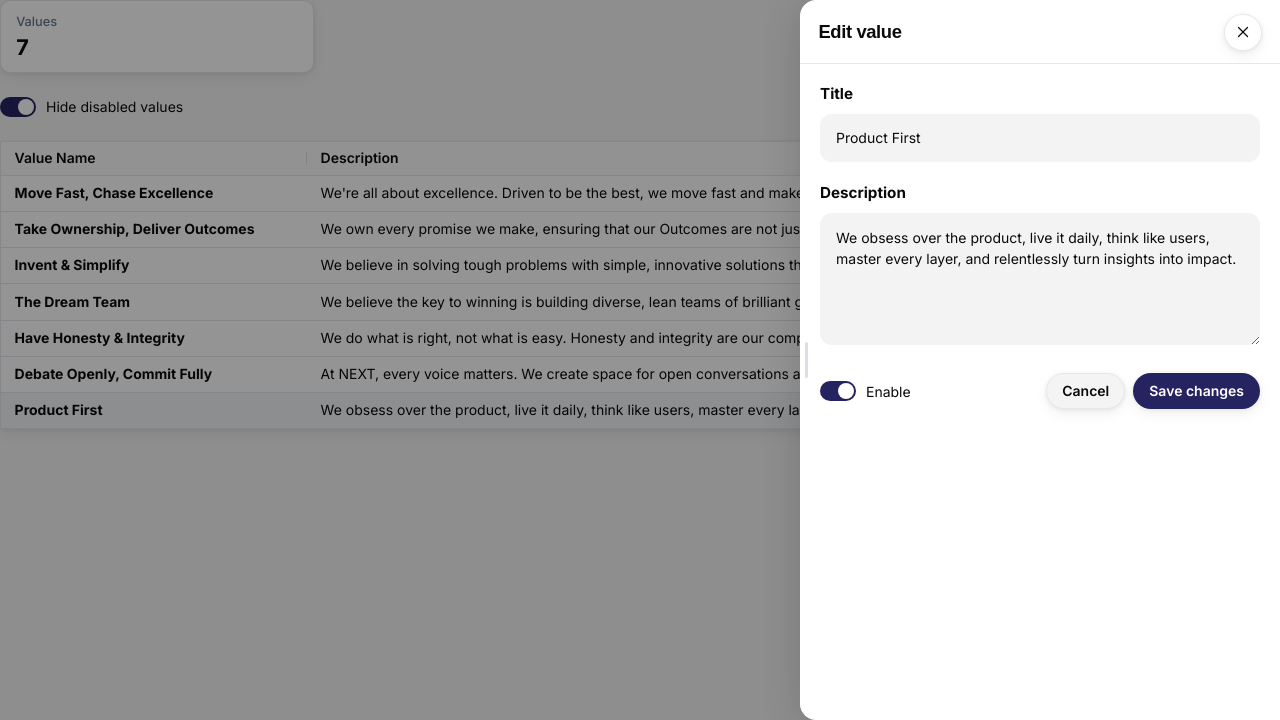
Test: ValuesLibrary › edits a value in the right panel
Expected: the dialog "Edit value" is shown, 800,0 -> 1279,719
Expected: the field labelled "Title" holds "Product First", 820,114 -> 1260,162
Replace the text in the text box labelled "Description" with "Updated product obsession." at (1040, 279), box 820,213 -> 1260,345
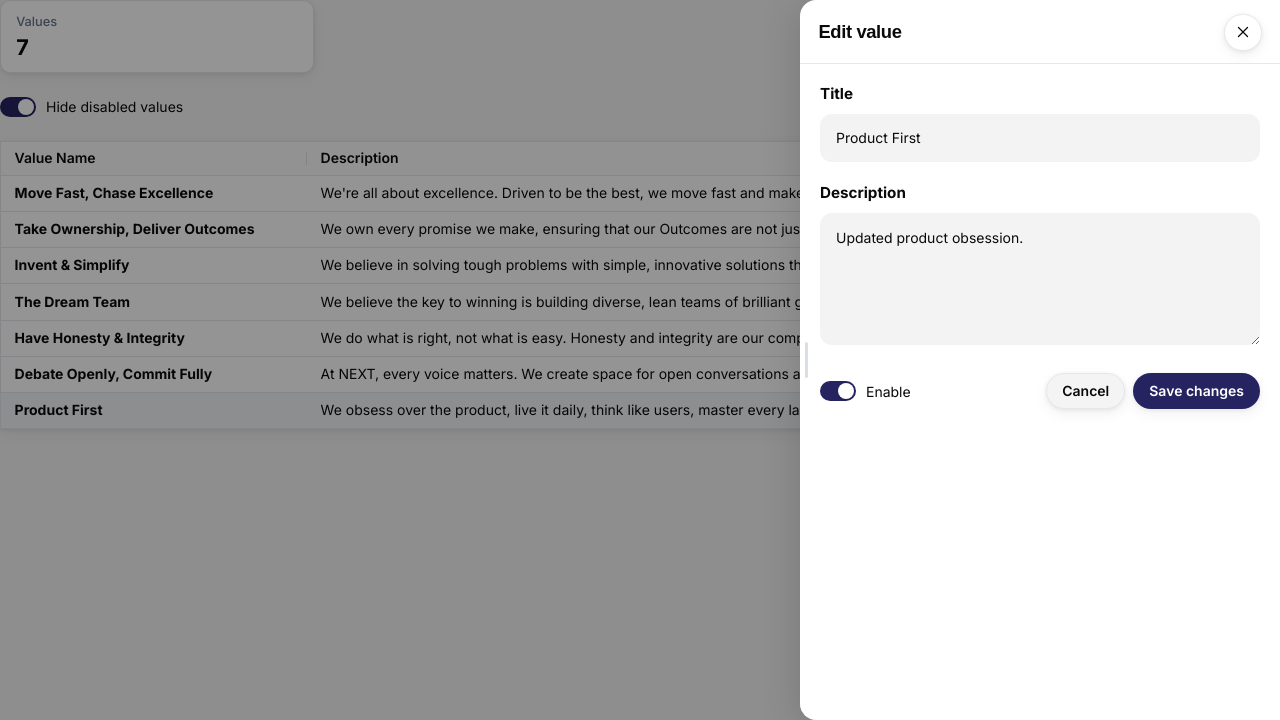
Click the button "Save changes" at (1197, 391), box 1133,373 -> 1260,409
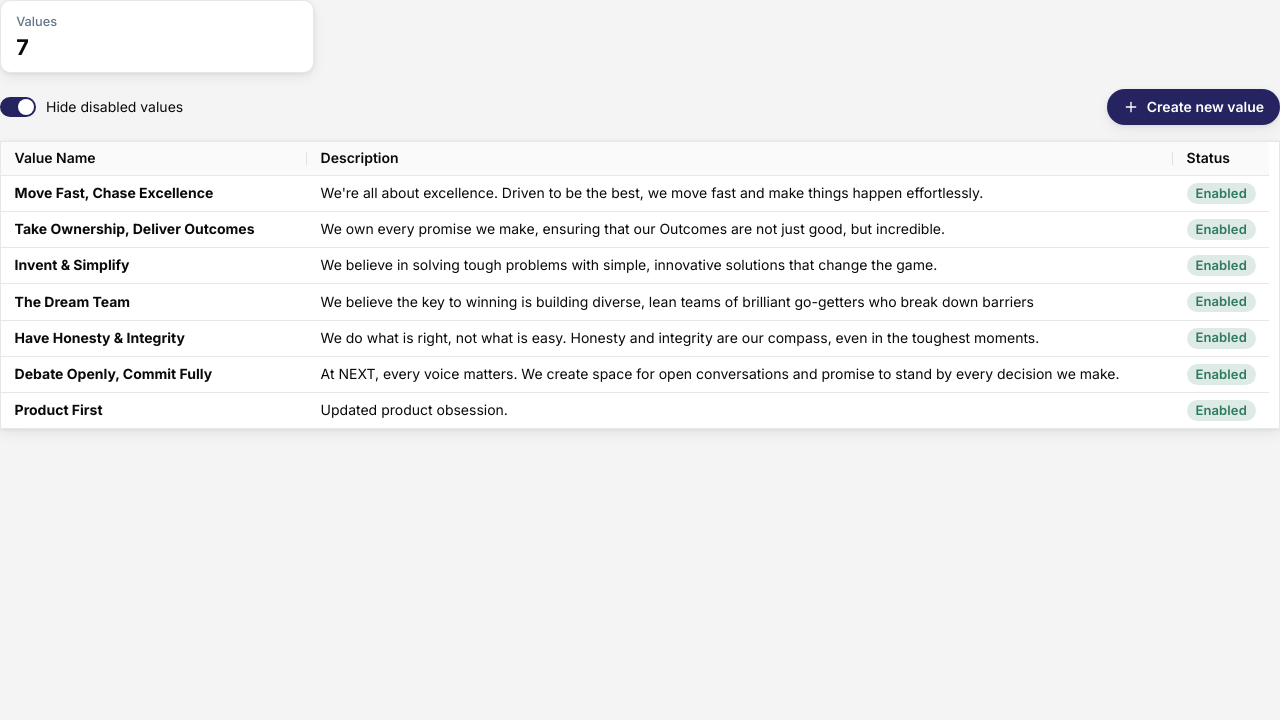
Now the dialog is gone
Now the text "Updated product obsession." is shown, box 307,392 -> 1173,428
